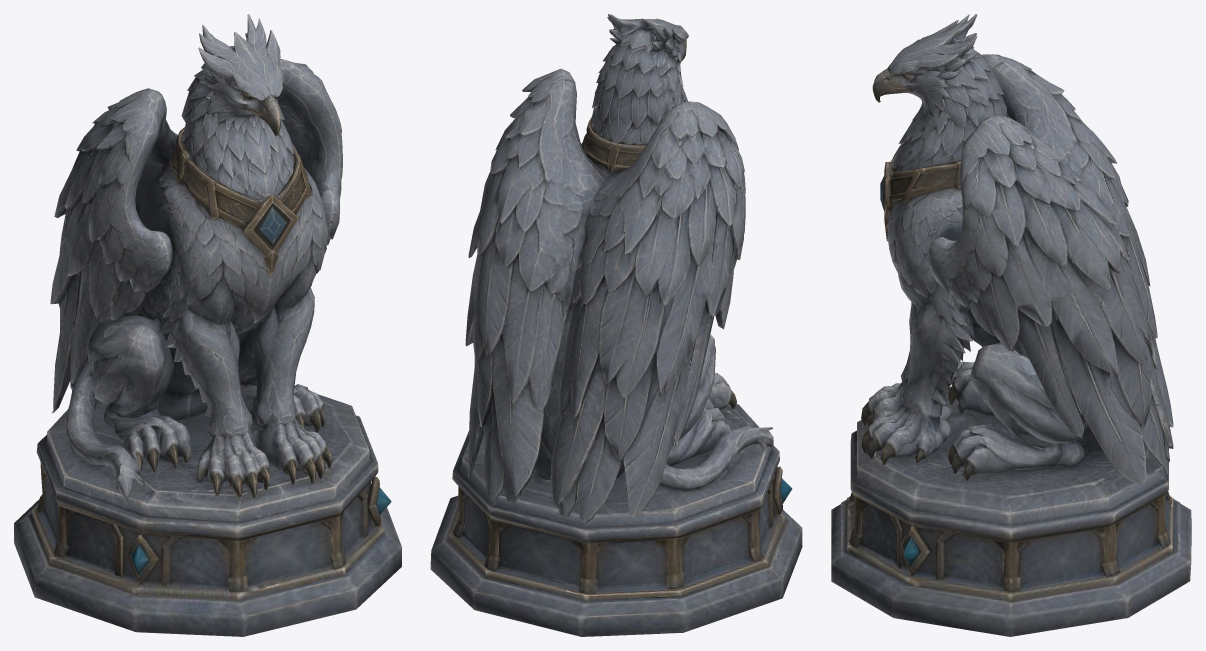
The model's file is arena-guardian.glb.
The picture shows the model from 3 angles, left to right: view 1: azimuth 30°, elevation 25°; view 2: azimuth 150°, elevation 25°; view 3: azimuth 270°, elevation 25°; orthographic projection. The views are drawn at different scales.
Size of the model in its own units: 0.6245 by 0.9512 by 0.5811.
Materials: 1 (1 with a texture image).
